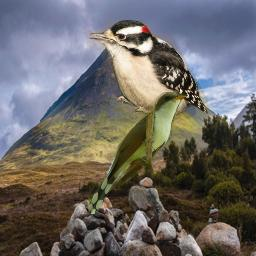Cuckoo: (88, 92, 188, 214)
Woodpecker: (86, 20, 210, 129)
